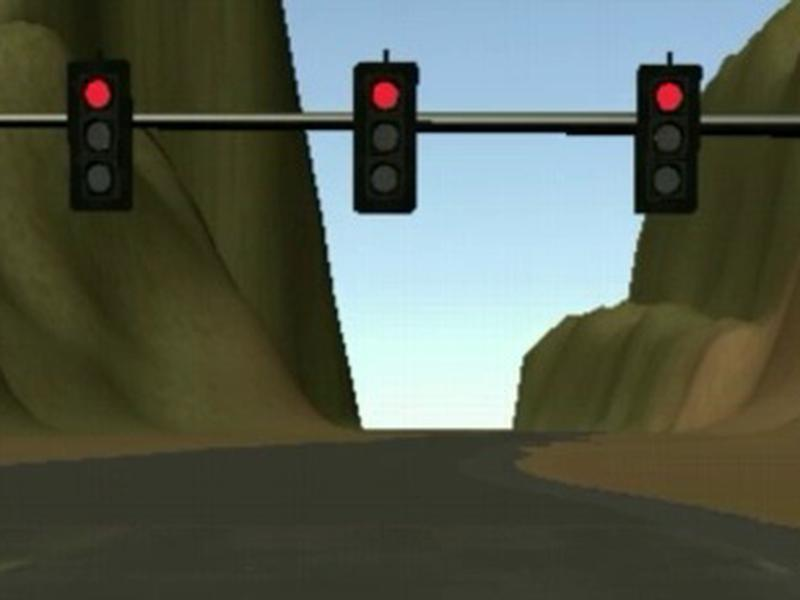Red: (634, 65, 703, 213), (353, 61, 419, 215), (69, 60, 135, 209)
